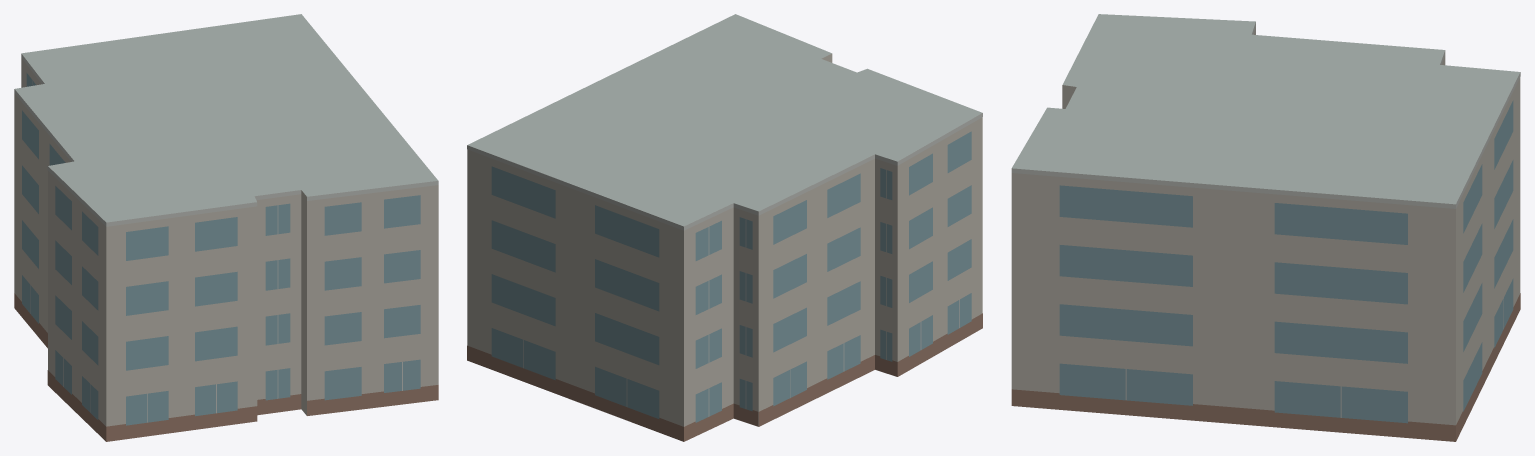
The model's file is survey-upis-32484993.glb.
The picture shows the model from 3 angles, left to right: view 1: azimuth 30°, elevation 25°; view 2: azimuth 150°, elevation 25°; view 3: azimuth 270°, elevation 25°; orthographic projection. The views are drawn at different scales.
Parts seen in each view (by area): view 1: survey-upis-32484993.tmp; view 2: survey-upis-32484993.tmp; view 3: survey-upis-32484993.tmp.
Boxes of the visible parts, x1,y1,x2,y2 form: survey-upis-32484993.tmp: (14,14,438,441); survey-upis-32484993.tmp: (467,14,982,441); survey-upis-32484993.tmp: (1011,14,1520,441).
Size of the model in its own units: 21.58 by 12.55 by 24.37.
